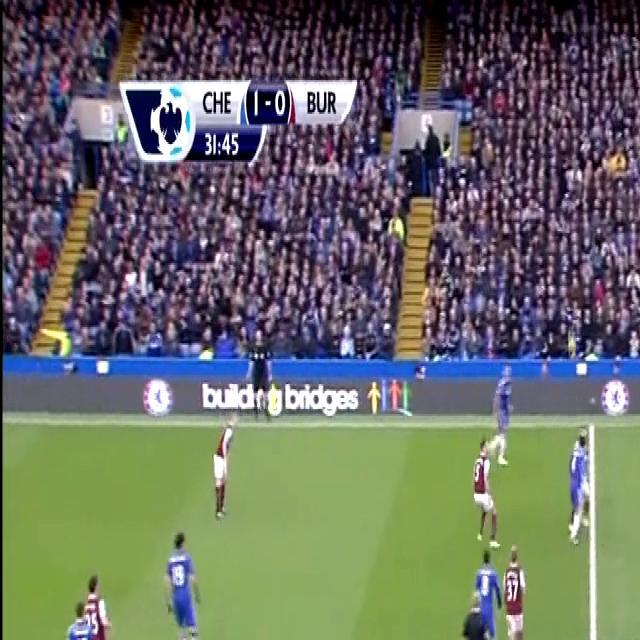referee: (242, 328, 279, 427), (457, 581, 494, 640)
soccer-player: (159, 519, 207, 640), (563, 417, 599, 549), (465, 432, 501, 554), (208, 401, 239, 526), (468, 542, 500, 640), (486, 358, 515, 466), (502, 540, 533, 640), (65, 585, 108, 640)
